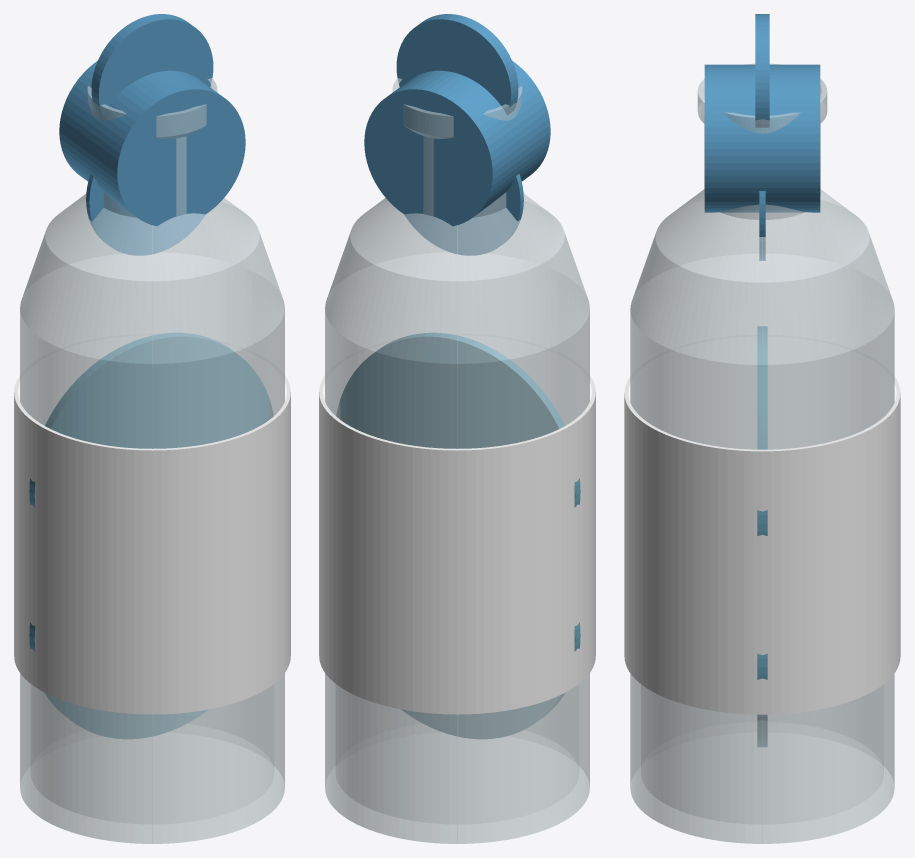
The model's file is botella_llenado.glb.
The picture shows the model from 3 angles, left to right: view 1: azimuth 30°, elevation 25°; view 2: azimuth 150°, elevation 25°; view 3: azimuth 270°, elevation 25°; orthographic projection.
Visible parts, largest first — view 1: llenado_3, llenado_0, llenado_2, llenado_1; view 2: llenado_3, llenado_0, llenado_2, llenado_1; view 3: llenado_0, llenado_3, llenado_1, llenado_2.
Part boxes in pixels (x1=…): llenado_3: x1=14, y1=332, x2=290, y2=738; llenado_0: x1=20, y1=78, x2=284, y2=843; llenado_2: x1=59, y1=14, x2=245, y2=255; llenado_1: x1=31, y1=684, x2=273, y2=824; llenado_3: x1=319, y1=332, x2=595, y2=738; llenado_0: x1=325, y1=78, x2=589, y2=843; llenado_2: x1=364, y1=14, x2=550, y2=255; llenado_1: x1=336, y1=684, x2=578, y2=824; llenado_0: x1=630, y1=63, x2=894, y2=843; llenado_3: x1=624, y1=326, x2=900, y2=746; llenado_1: x1=641, y1=685, x2=883, y2=824; llenado_2: x1=704, y1=14, x2=820, y2=260.
Size of the model in its own units: 4.2 by 12.83 by 4.18.
Materials: 4 (1 with a texture image).
